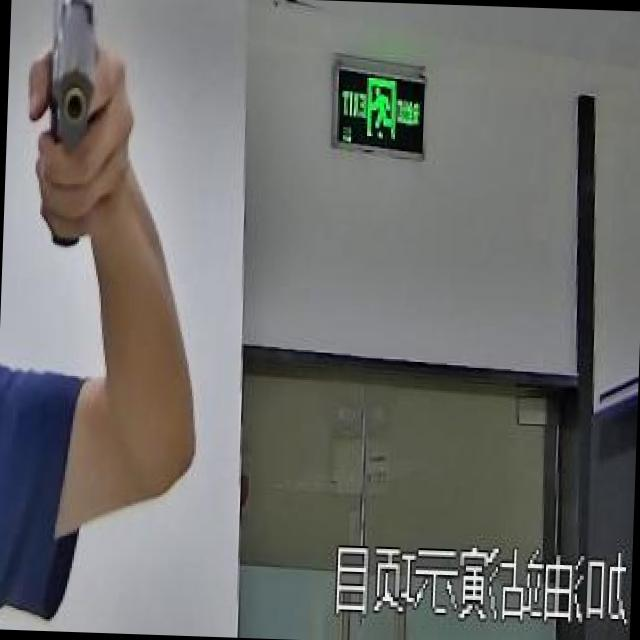Guns: (10, 0, 131, 259)
